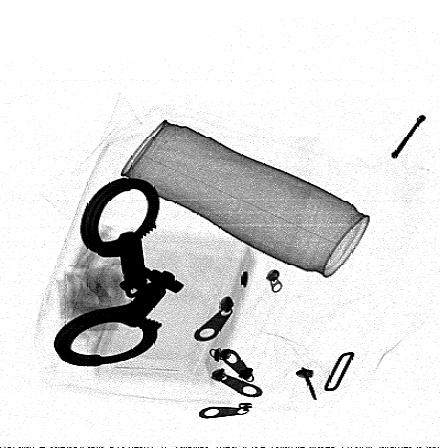HandCuffs: (54, 178, 187, 367)
